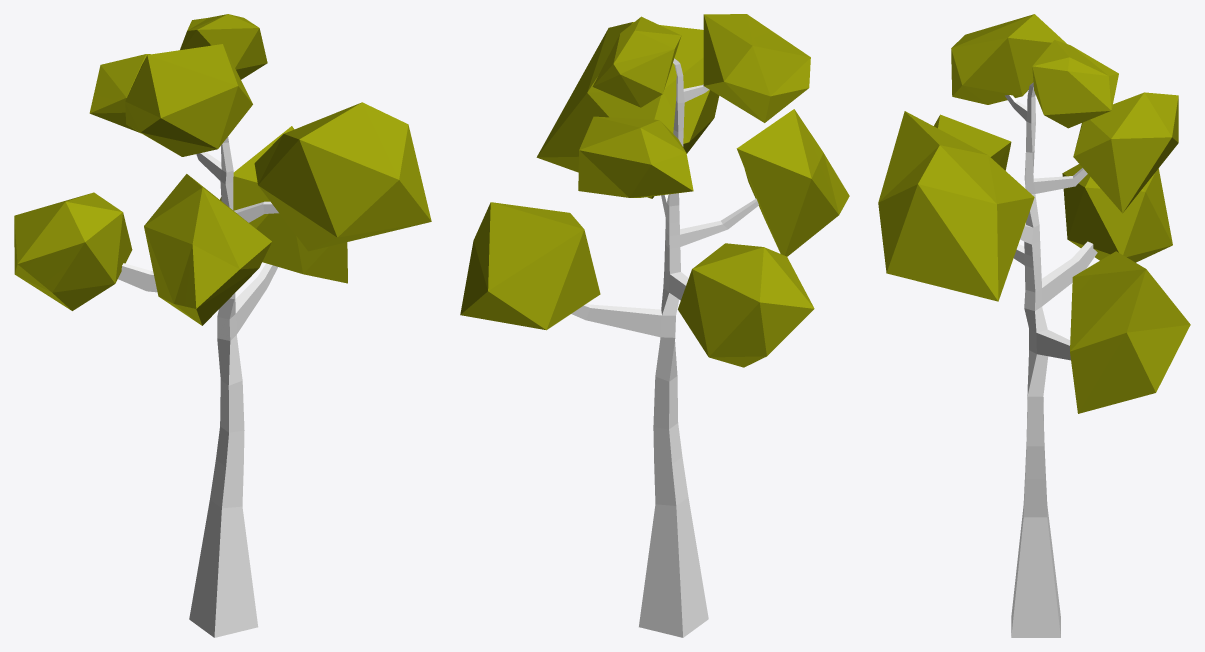
File: birch-tree-green-0.gltf
The picture shows the model from 3 angles, left to right: view 1: azimuth 30°, elevation 25°; view 2: azimuth 150°, elevation 25°; view 3: azimuth 270°, elevation 25°; orthographic projection. The views are drawn at different scales.
Visible parts, largest first — view 1: Cube; view 2: Cube; view 3: Cube.
Boxes of the visible parts, x1,y1,x2,y2 form: Cube: [14, 14, 431, 637]; Cube: [460, 14, 849, 637]; Cube: [878, 14, 1190, 637].
Bounding box in the file's own units: 15.33 × 26.58 × 12.93.
Materials: 1 (1 with a texture image).
